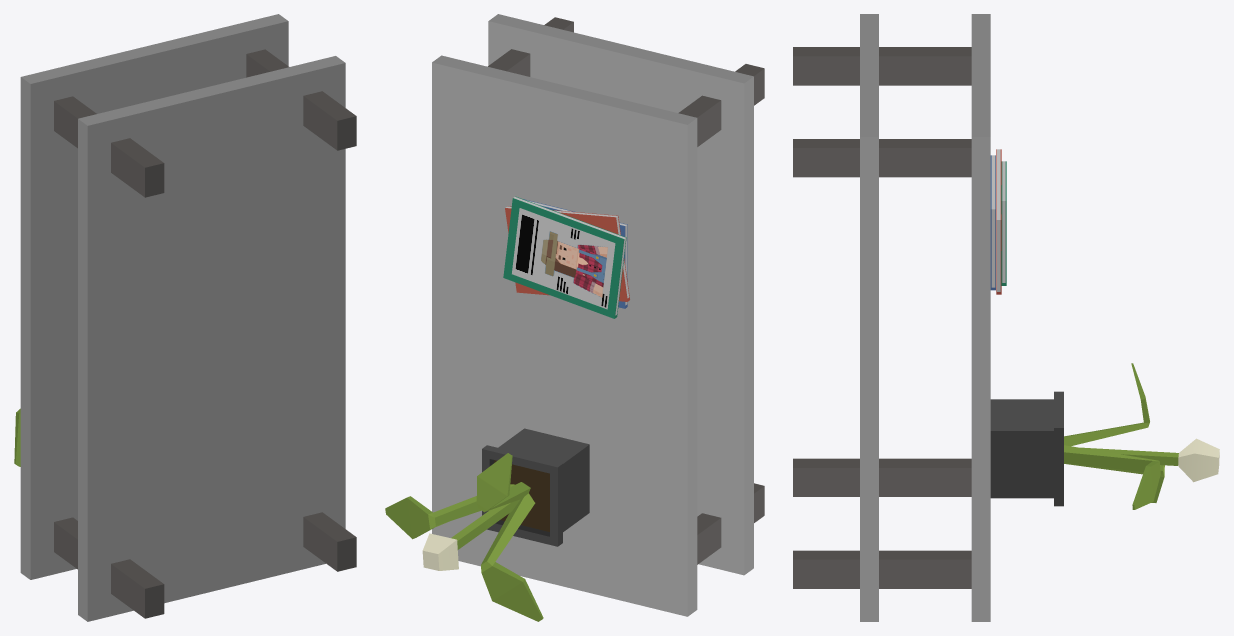
File: CoffeeTable2.glb
3 renders of one model, left to right at view 1: azimuth 30°, elevation 25°; view 2: azimuth 150°, elevation 25°; view 3: azimuth 270°, elevation 25°, orthographic. The views are drawn at different scales.
Visible parts, largest first — view 1: SO_Coffeetable_02; view 2: SO_Coffeetable_02; view 3: SO_Coffeetable_02.
Part boxes in pixels (bbox=[...]): SO_Coffeetable_02: bbox=[14, 14, 356, 621]; SO_Coffeetable_02: bbox=[385, 14, 764, 621]; SO_Coffeetable_02: bbox=[793, 14, 1219, 621].
Bounding box in the file's own units: 1.22 × 2.24 × 1.79.
Materials: 1 (1 with a texture image).
